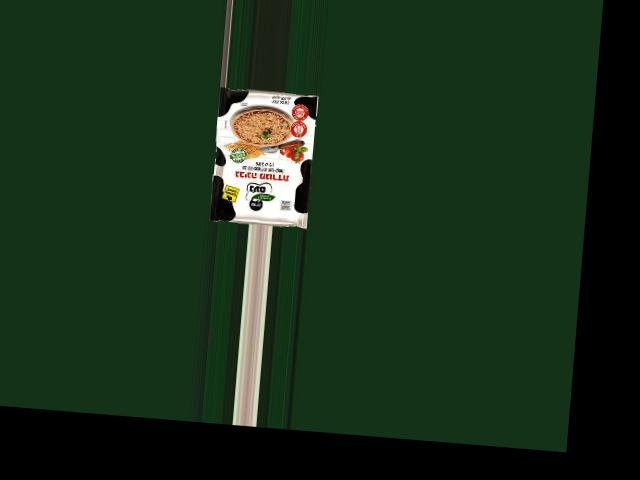cheese: (207, 93, 334, 220)
